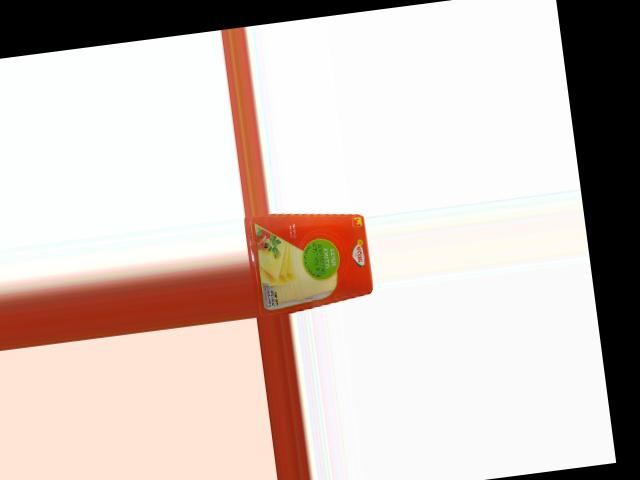cheese: (242, 201, 374, 315)
